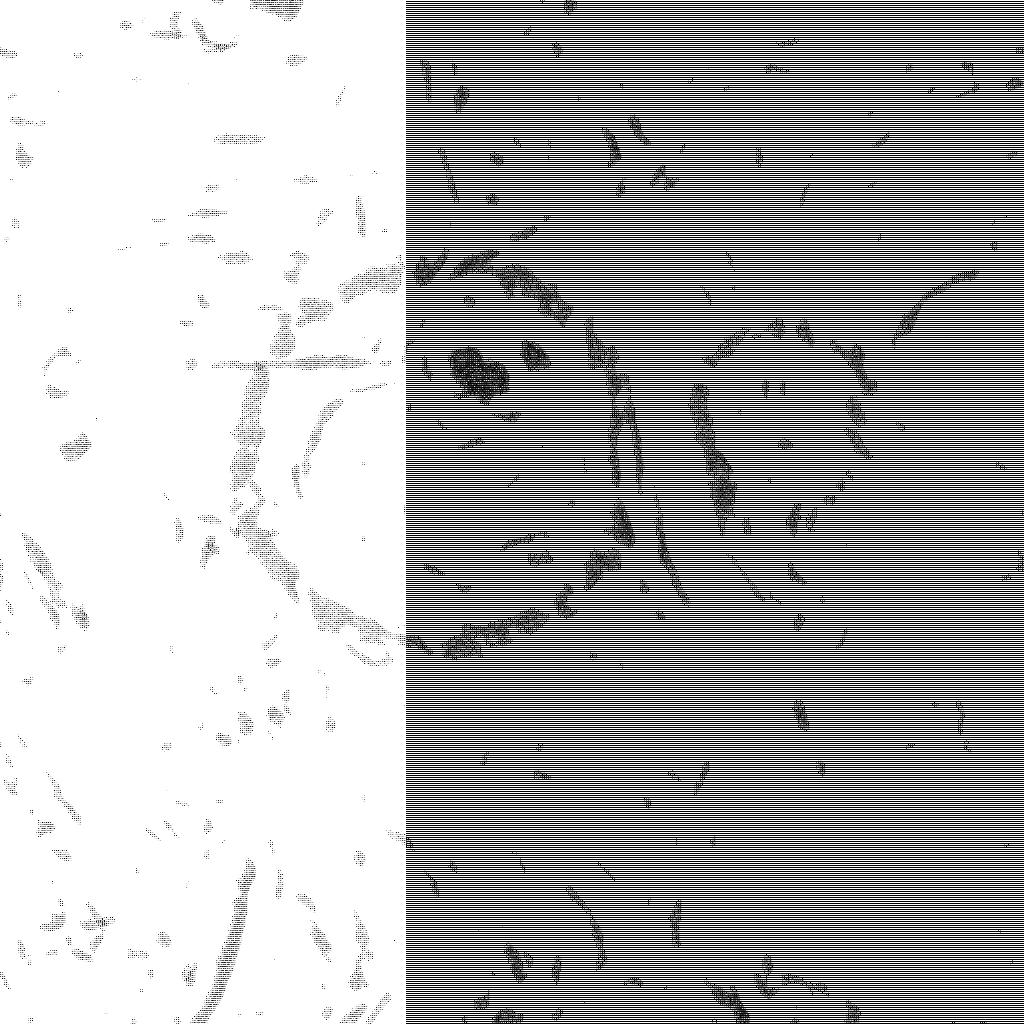axone: (443, 338, 518, 408)
